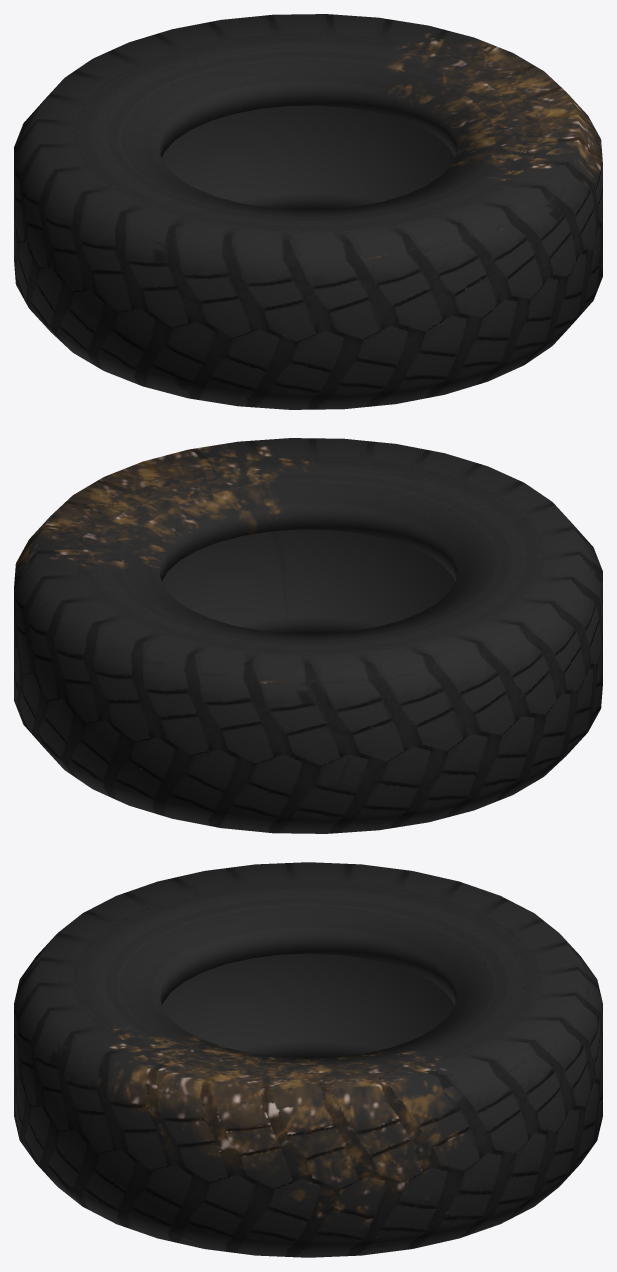
The model's file is wheel.fbx.
3 renders of one model, top to bottom at view 1: azimuth 30°, elevation 25°; view 2: azimuth 150°, elevation 25°; view 3: azimuth 270°, elevation 25°, orthographic.
Visible parts, largest first — view 1: wheel_1_LOD0; view 2: wheel_1_LOD0; view 3: wheel_1_LOD0.
Boxes of the visible parts, bbox=[...] form: wheel_1_LOD0: bbox=[14, 14, 602, 409]; wheel_1_LOD0: bbox=[14, 438, 602, 833]; wheel_1_LOD0: bbox=[14, 862, 602, 1257].
Size of what is drawn, in the model's own units: 0.6259 by 0.1948 by 0.6259.
